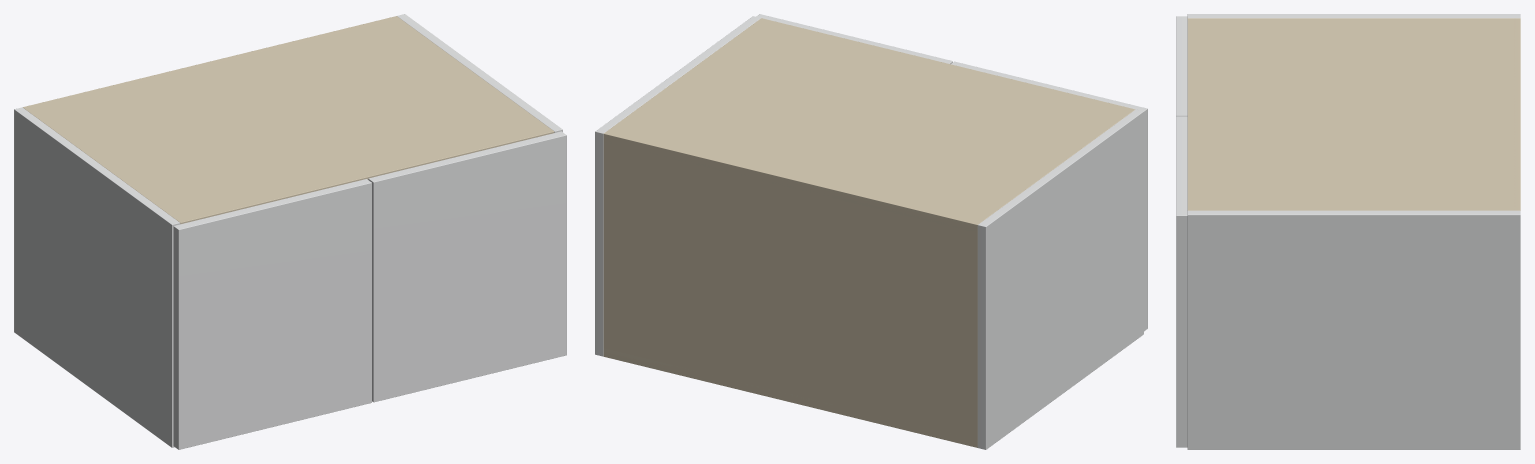
Rendered from oppein-ply-pgw-w331824.glb.
3 views of the same model, side by side, from view 1: azimuth 30°, elevation 25°; view 2: azimuth 150°, elevation 25°; view 3: azimuth 270°, elevation 25° (orthographic). The views are drawn at different scales.
Visible parts, largest first — view 1: Cabinet top, Door, Door.001, Cabinet side, Cabinet side.001, Cabinet back; view 2: Cabinet back, Cabinet top, Cabinet side, Cabinet side.001, Door, Door.001, Cabinet bottom; view 3: Cabinet side.001, Cabinet top, Door.001, Cabinet side, Cabinet back, Door.
Part boxes in pixels (x1,y1,x2,y2): Cabinet top: (23,16,554,224); Door: (173,179,371,449); Door.001: (368,131,566,402); Cabinet side: (14,107,180,447); Cabinet side.001: (397,14,562,132); Cabinet back: (23,16,399,109); Cabinet back: (603,131,980,447); Cabinet top: (604,18,1134,232); Cabinet side: (977,109,1143,449); Cabinet side.001: (595,16,760,356); Door: (951,61,1147,331); Door.001: (756,14,952,64); Cabinet bottom: (603,348,977,444); Cabinet side.001: (1187,210,1520,449); Cabinet top: (1187,18,1520,210); Door.001: (1176,116,1187,447); Cabinet side: (1187,14,1520,18); Cabinet back: (1514,18,1520,210); Door: (1176,16,1187,116).
Size of the model in its own units: 0.8382 by 0.4572 by 0.6064.
